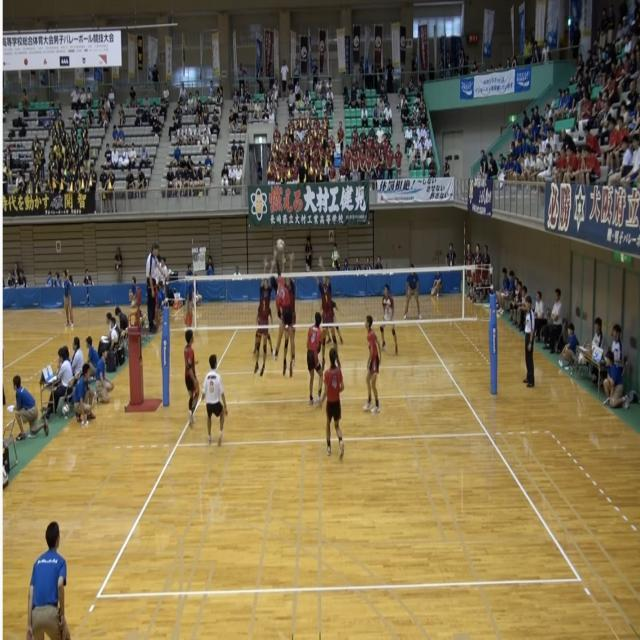spike: (268, 236, 298, 374)
